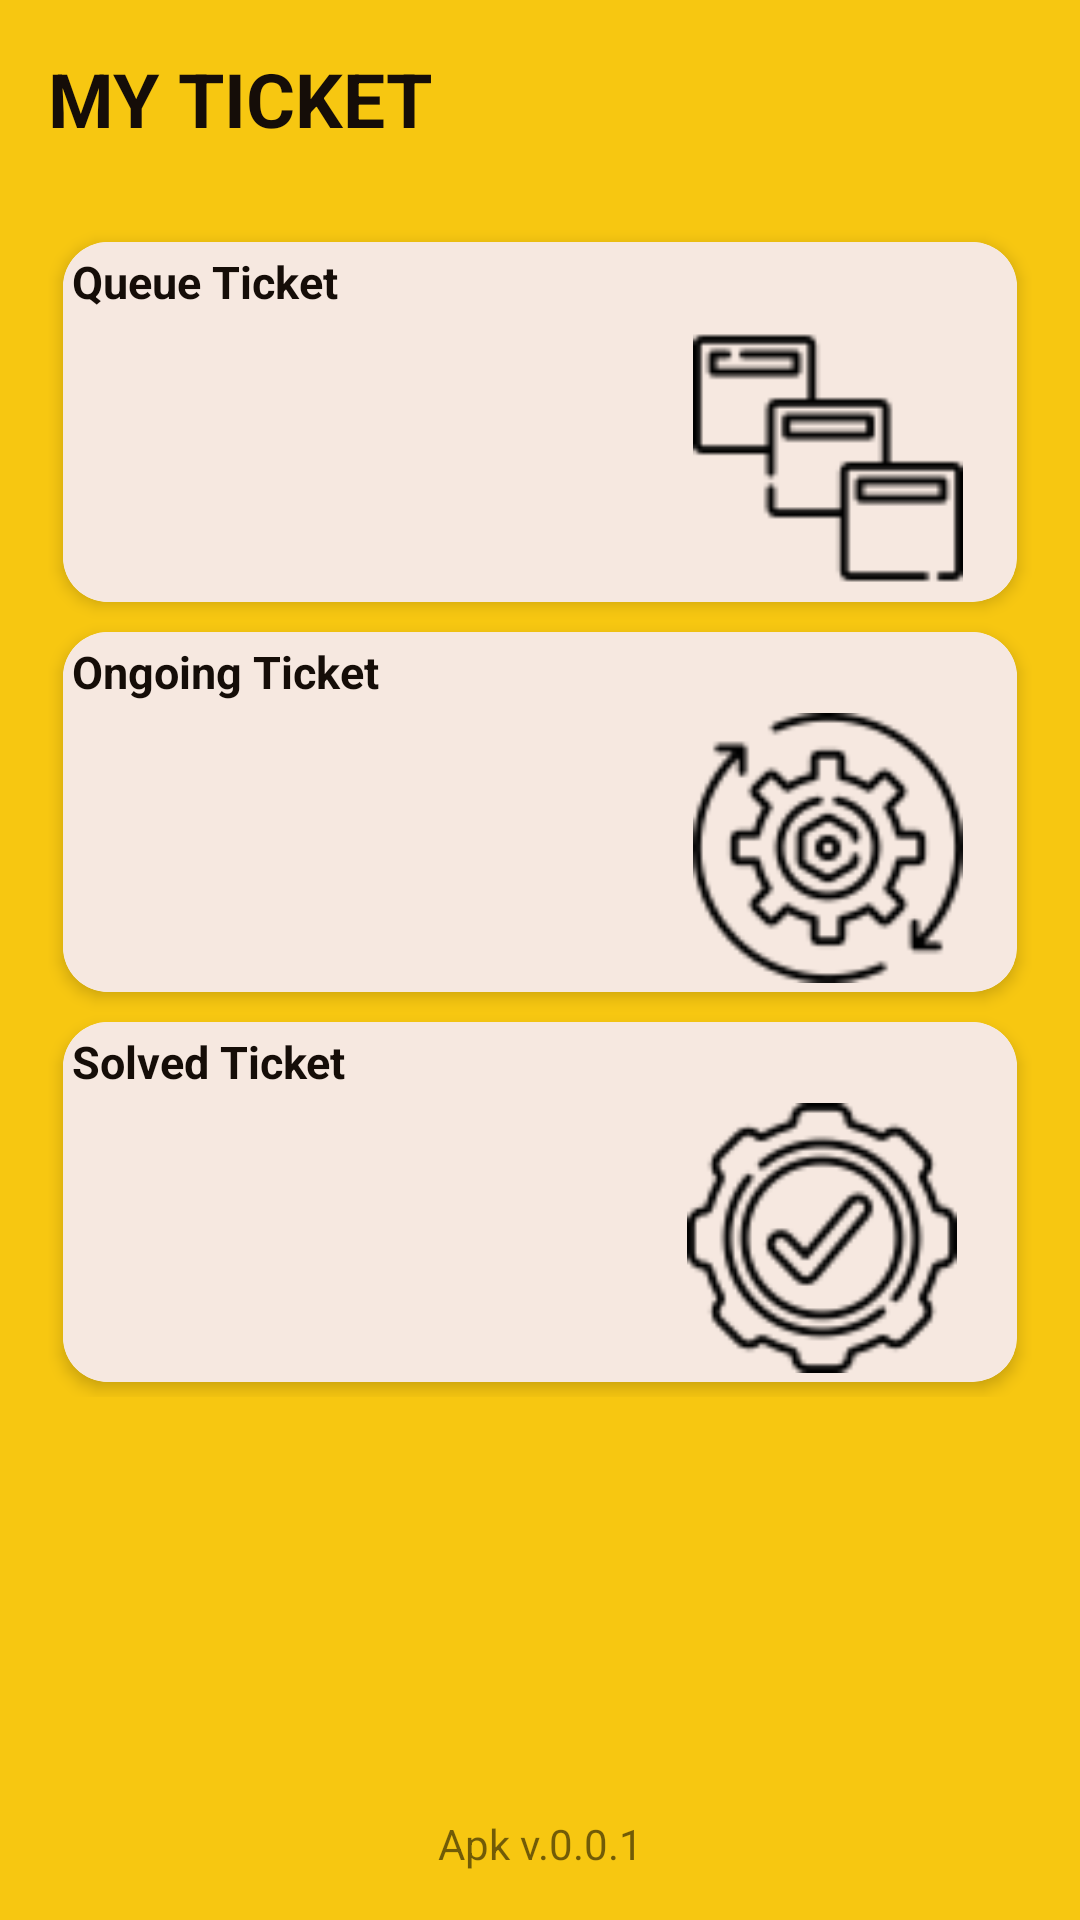

Icon bounding boxes for this 1080px×1920px phone screenshot, format (x1, y1, x2, y2):
ongoing ticket: (693, 713, 963, 983)
queue ticket: (693, 334, 963, 582)
solved ticket: (687, 1103, 957, 1373)
